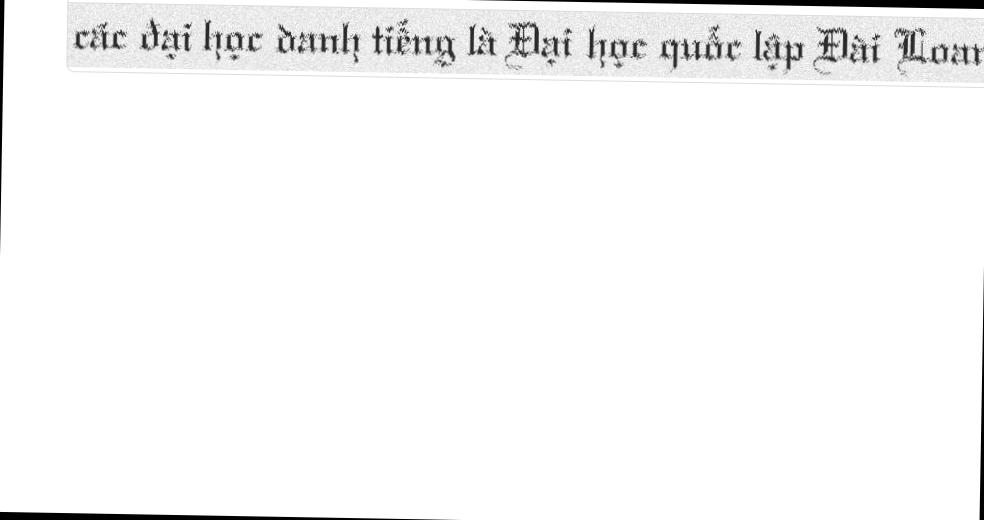text: (67, 8, 984, 78)
